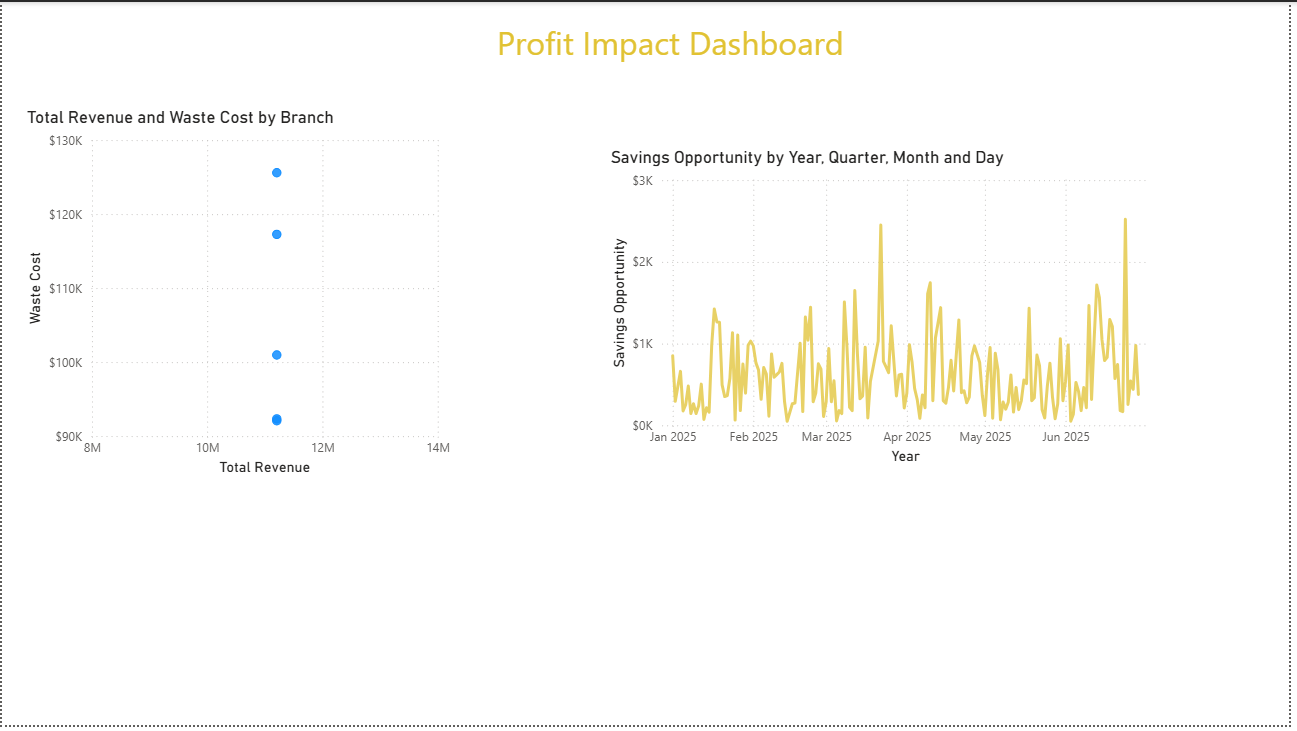

Layout of this report page (visuals, bound fields, positions):
{"tool":"powerbi","page":{"name":"Page 3","canvas":[1280,720],"ordinal":2},"visuals":[{"type":"scatterChart","fields":{"Y":["Measure Table.Waste Cost"],"X":["Measure Table.Total Revenue"],"Category":["WasteData.Branch"]},"box":[19.5,105,430.9,371.6],"z":0},{"type":"lineChart","fields":{"Y":["Measure Table.Savings Opportunity"],"Category":["Calender.Date.Variation.Date Hierarchy.Year","Calender.Date.Variation.Date Hierarchy.Quarter","Calender.Date.Variation.Date Hierarchy.Month","Calender.Date.Variation.Date Hierarchy.Day"]},"box":[601.1,144,559.3,321],"z":1},{"type":"textbox","box":[487.3,13.6,722.7,67.1],"z":2}]}

Visuals, with their boxes in screenshot pixels (x1, y1, x2, y2), scaled from the page's 1280x720 canvas onto the 1297x731 screenshot:
scatterChart - Measure Table.Waste Cost x Measure Table.Total Revenue: bbox=(20, 107, 456, 484)
lineChart - Measure Table.Savings Opportunity x Calender.Date.Variation.Date Hierarchy.Year: bbox=(609, 146, 1176, 472)
textbox: bbox=(494, 14, 1226, 82)
